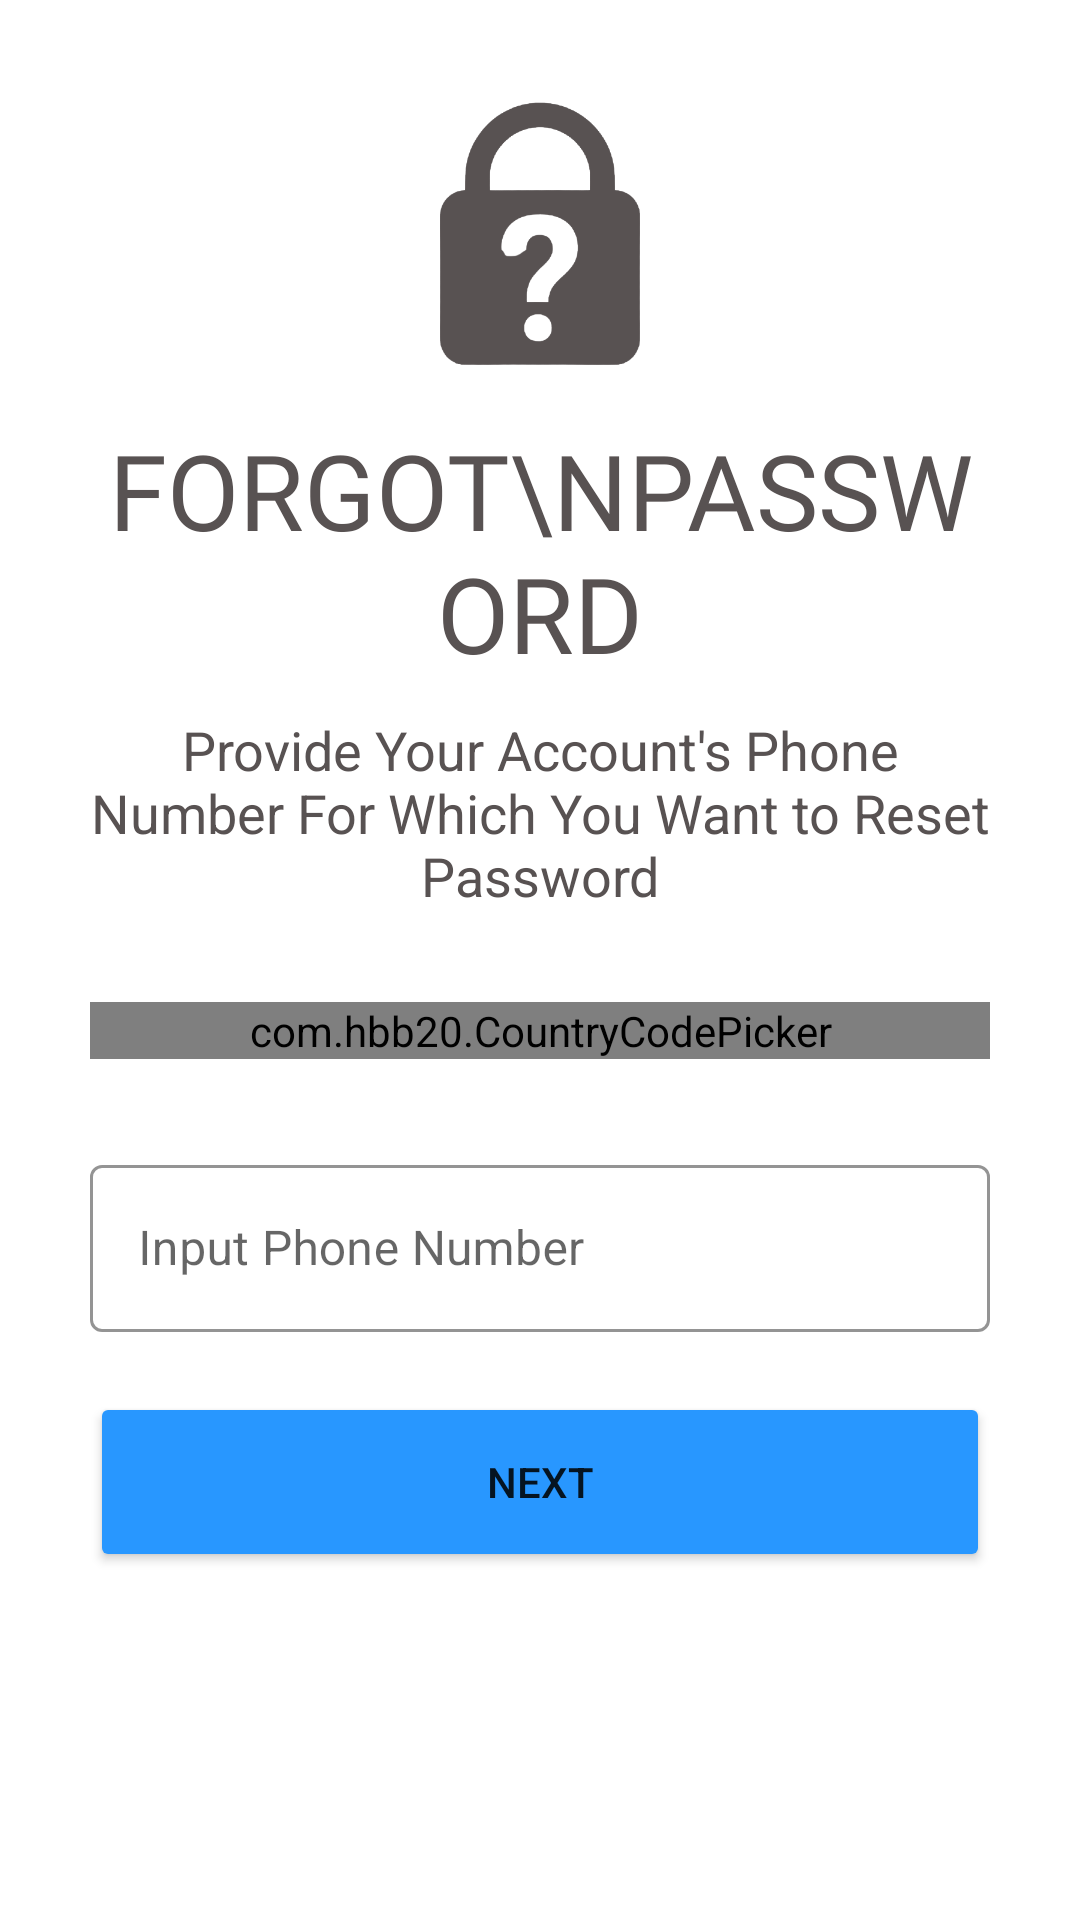

Screen size 1080x1920. Icon name, then its box in pixels as (x1, y1, x2, y2):
lock forgetpassword: (440, 102, 640, 365)
